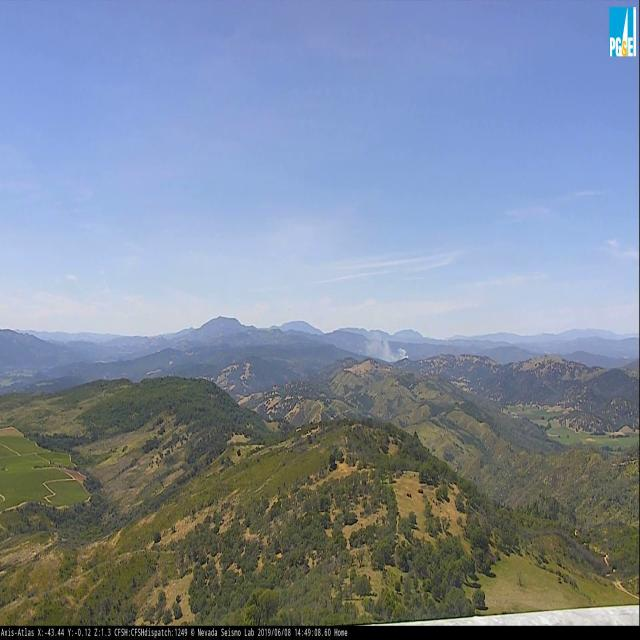smoke: (358, 332, 409, 364)
